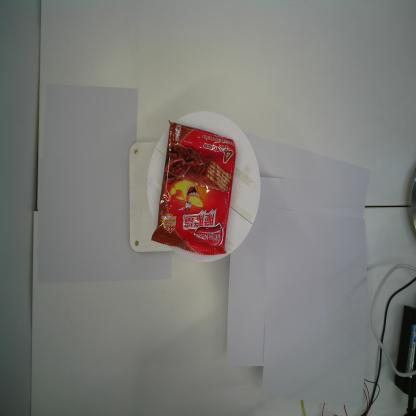Dessert: (150, 120, 236, 256)
